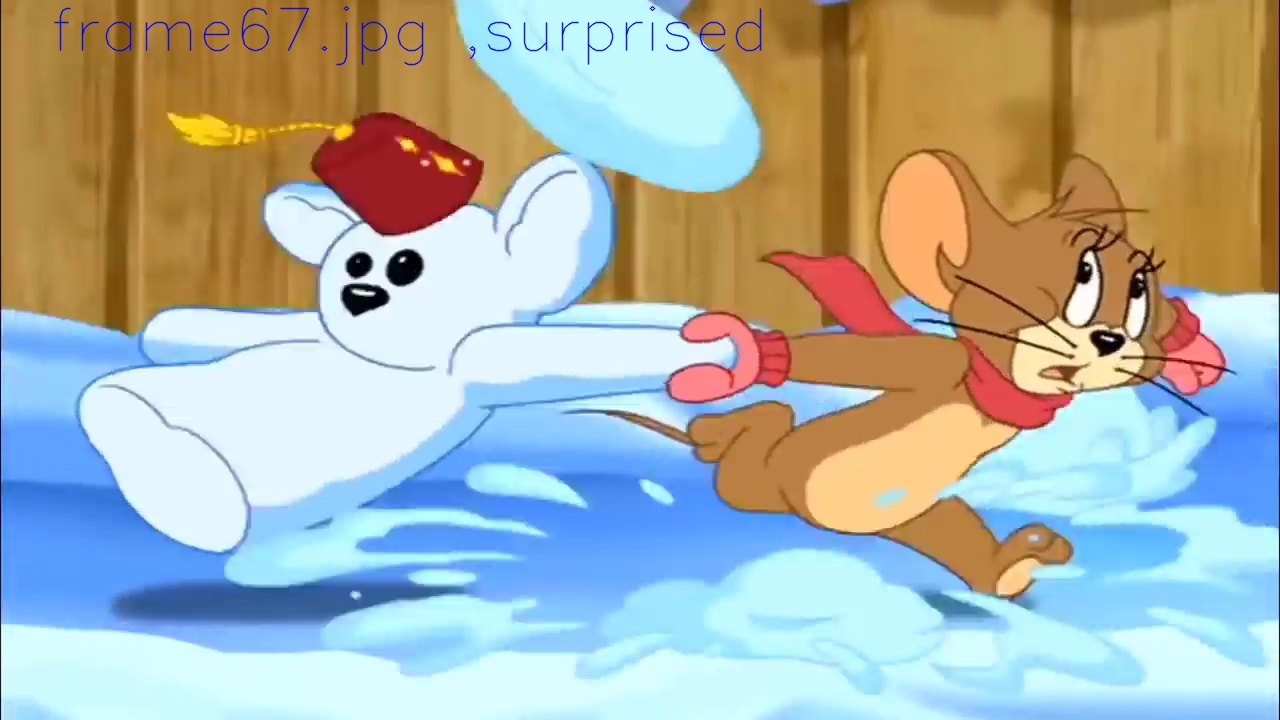surprised: (1034, 227, 1153, 394)
